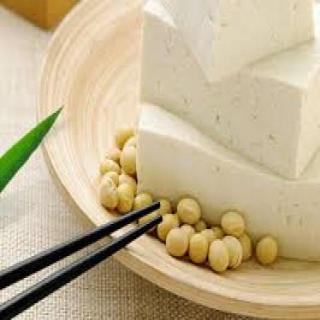Tahu: (128, 1, 320, 264)
